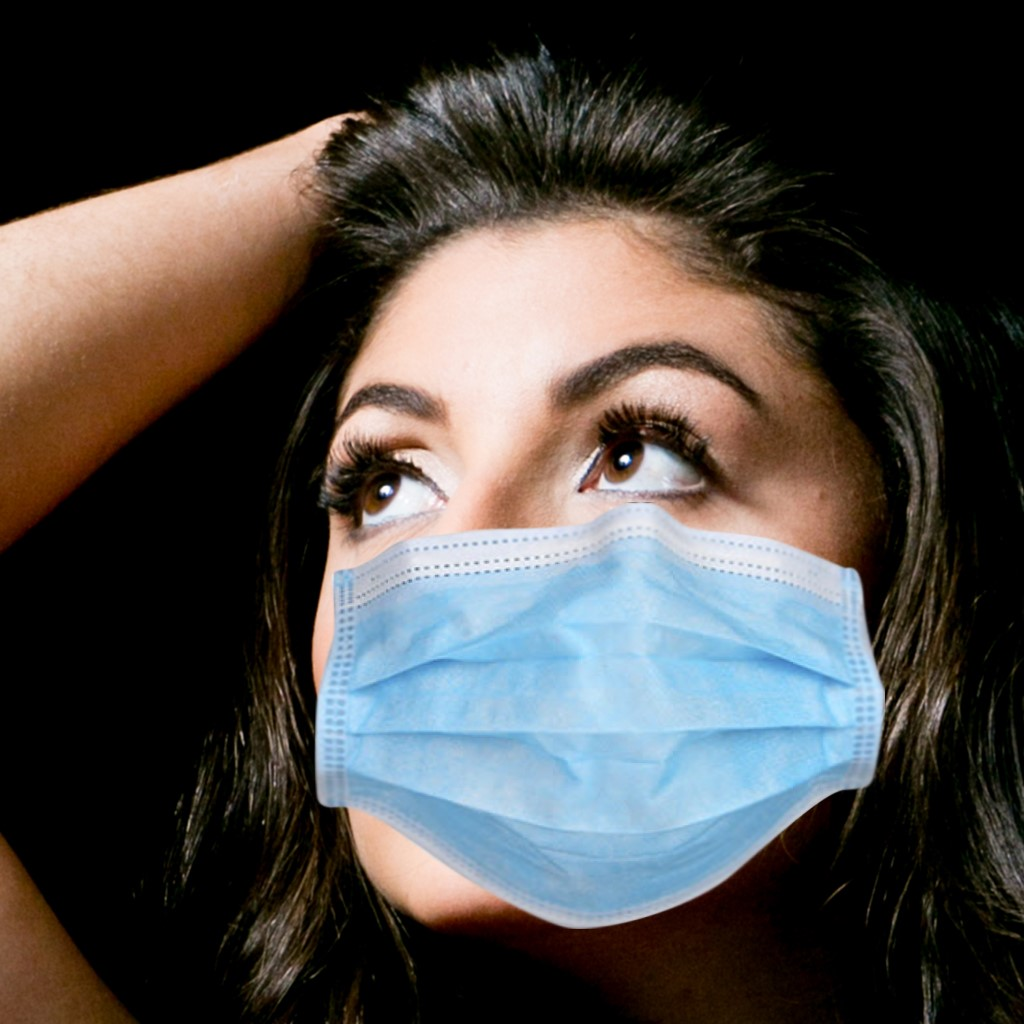con_mascara: (307, 161, 878, 976)
